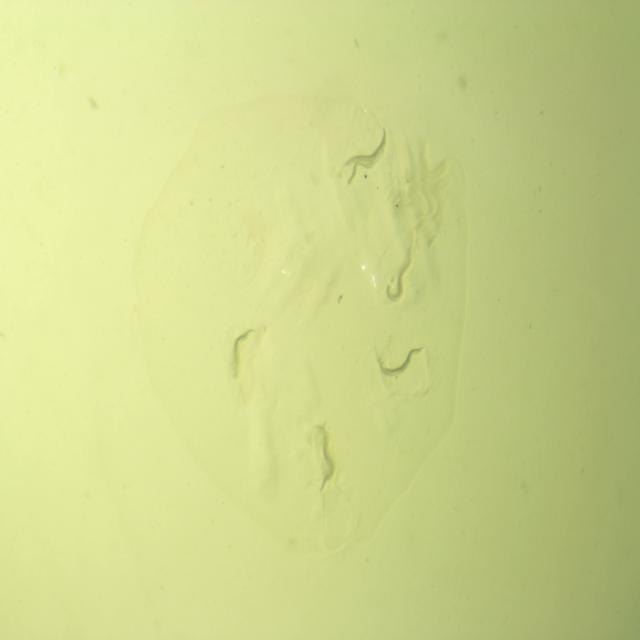worm: (307, 420, 340, 498), (343, 122, 388, 171), (374, 344, 426, 384), (344, 146, 386, 189), (230, 325, 256, 383), (383, 258, 413, 306)
